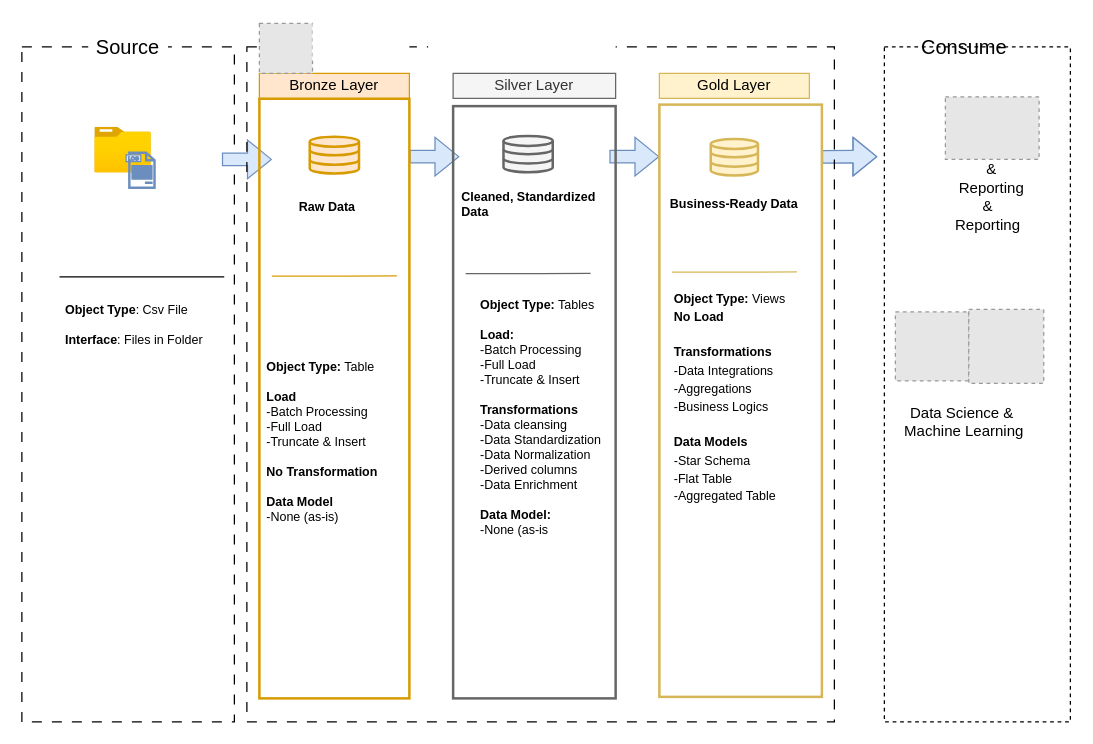
The diagram is 1093 pixels wide and 744 high, and some of its shapes have lost their labels. Grey dashed boxes stand in for pictures. The centre of each missing label's shape, as x and y in pixels:
Data Warehouse: pixel 521 46
Global Superstore: pixel 117 247
SQL Server: pixel 360 41
